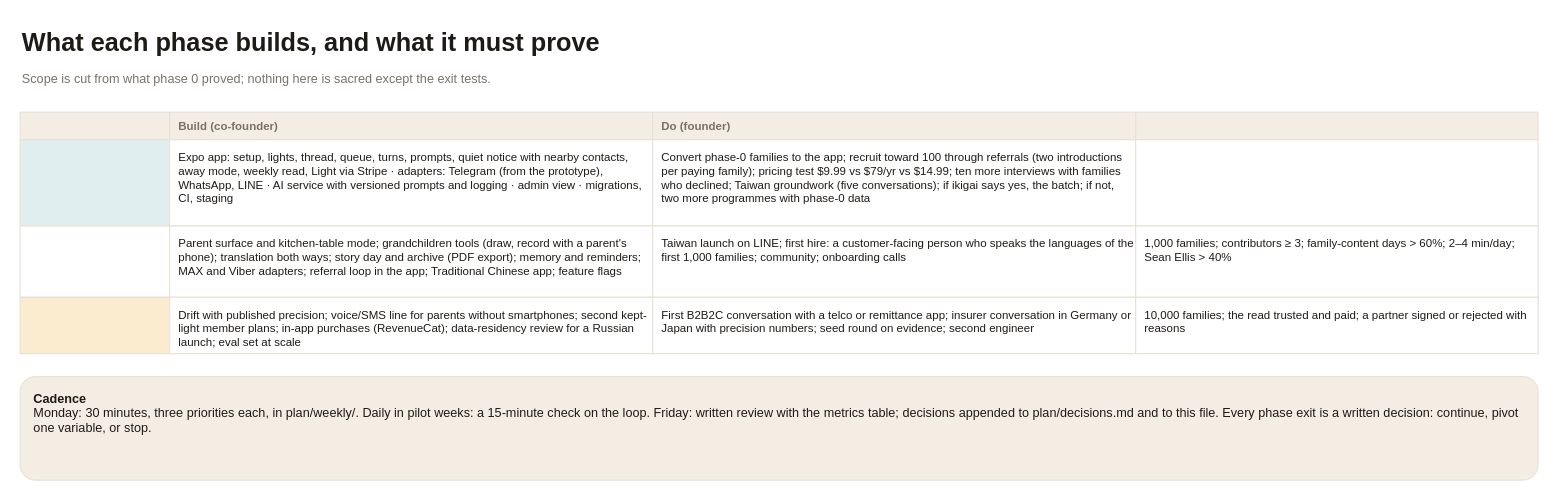
Image size: 1558x500. Some labels were removed from this diagram. The shapes that lost their labels are listed below. From the top down, each one's centre as x and y in pixels, then its label:
At (94,125): "Phase".
At (1336,125): "Prove".
At (94,182): "1 · MVP · months 2–3".
At (1336,182): "Conversion > 25%; D30 > 85%; answer rate > 85%; members per family ≥ 5".
At (94,261): "2 · The bridge · months 4–6".
At (94,325): "3 · The read · months 7–12".
